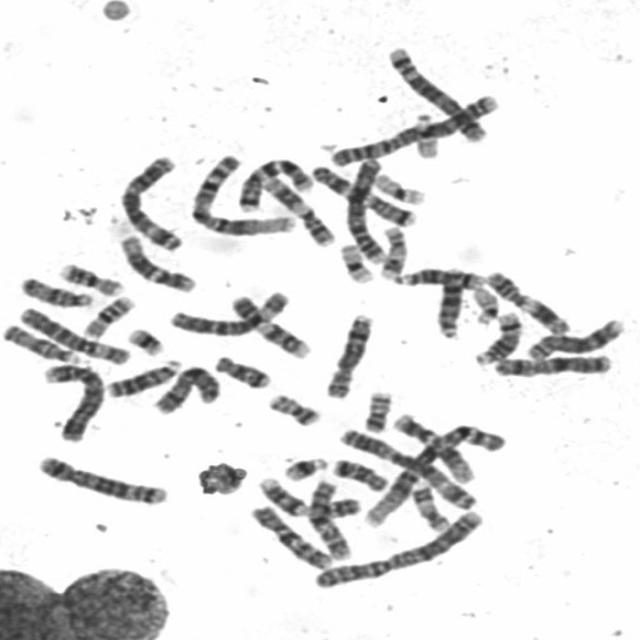A1: (355, 418, 510, 530), (186, 150, 300, 238)
A2: (310, 504, 490, 590), (326, 91, 501, 169)
A3: (335, 425, 480, 511), (116, 150, 187, 252)
B4: (35, 358, 107, 443), (343, 156, 390, 265)
B5: (382, 40, 494, 143), (32, 450, 171, 507)
C10: (245, 500, 336, 571), (302, 476, 355, 562)
C11: (480, 265, 575, 336), (257, 172, 336, 248)
C12: (387, 409, 476, 486), (114, 230, 200, 293)
C6: (13, 300, 132, 366), (164, 286, 293, 338)
C7: (304, 159, 418, 228), (233, 154, 320, 212)
C8: (521, 313, 628, 362), (321, 308, 376, 400)
C9: (225, 290, 314, 360), (252, 472, 362, 519)
D13: (100, 353, 185, 399), (432, 264, 468, 340)
D14: (469, 306, 527, 366), (388, 263, 487, 290)
D15: (0, 319, 85, 365), (15, 272, 96, 308)
E16: (77, 291, 138, 340), (54, 258, 127, 297)
E17: (406, 478, 453, 533), (373, 220, 410, 280)
E18: (327, 453, 391, 493), (209, 350, 273, 390)
F19: (369, 169, 427, 205), (335, 238, 377, 284)
F20: (262, 388, 324, 428), (358, 385, 395, 434)
G21: (278, 451, 330, 482), (122, 322, 168, 356)
G22: (408, 109, 442, 160), (467, 282, 501, 327)
X: (148, 362, 224, 416), (490, 349, 617, 378)
